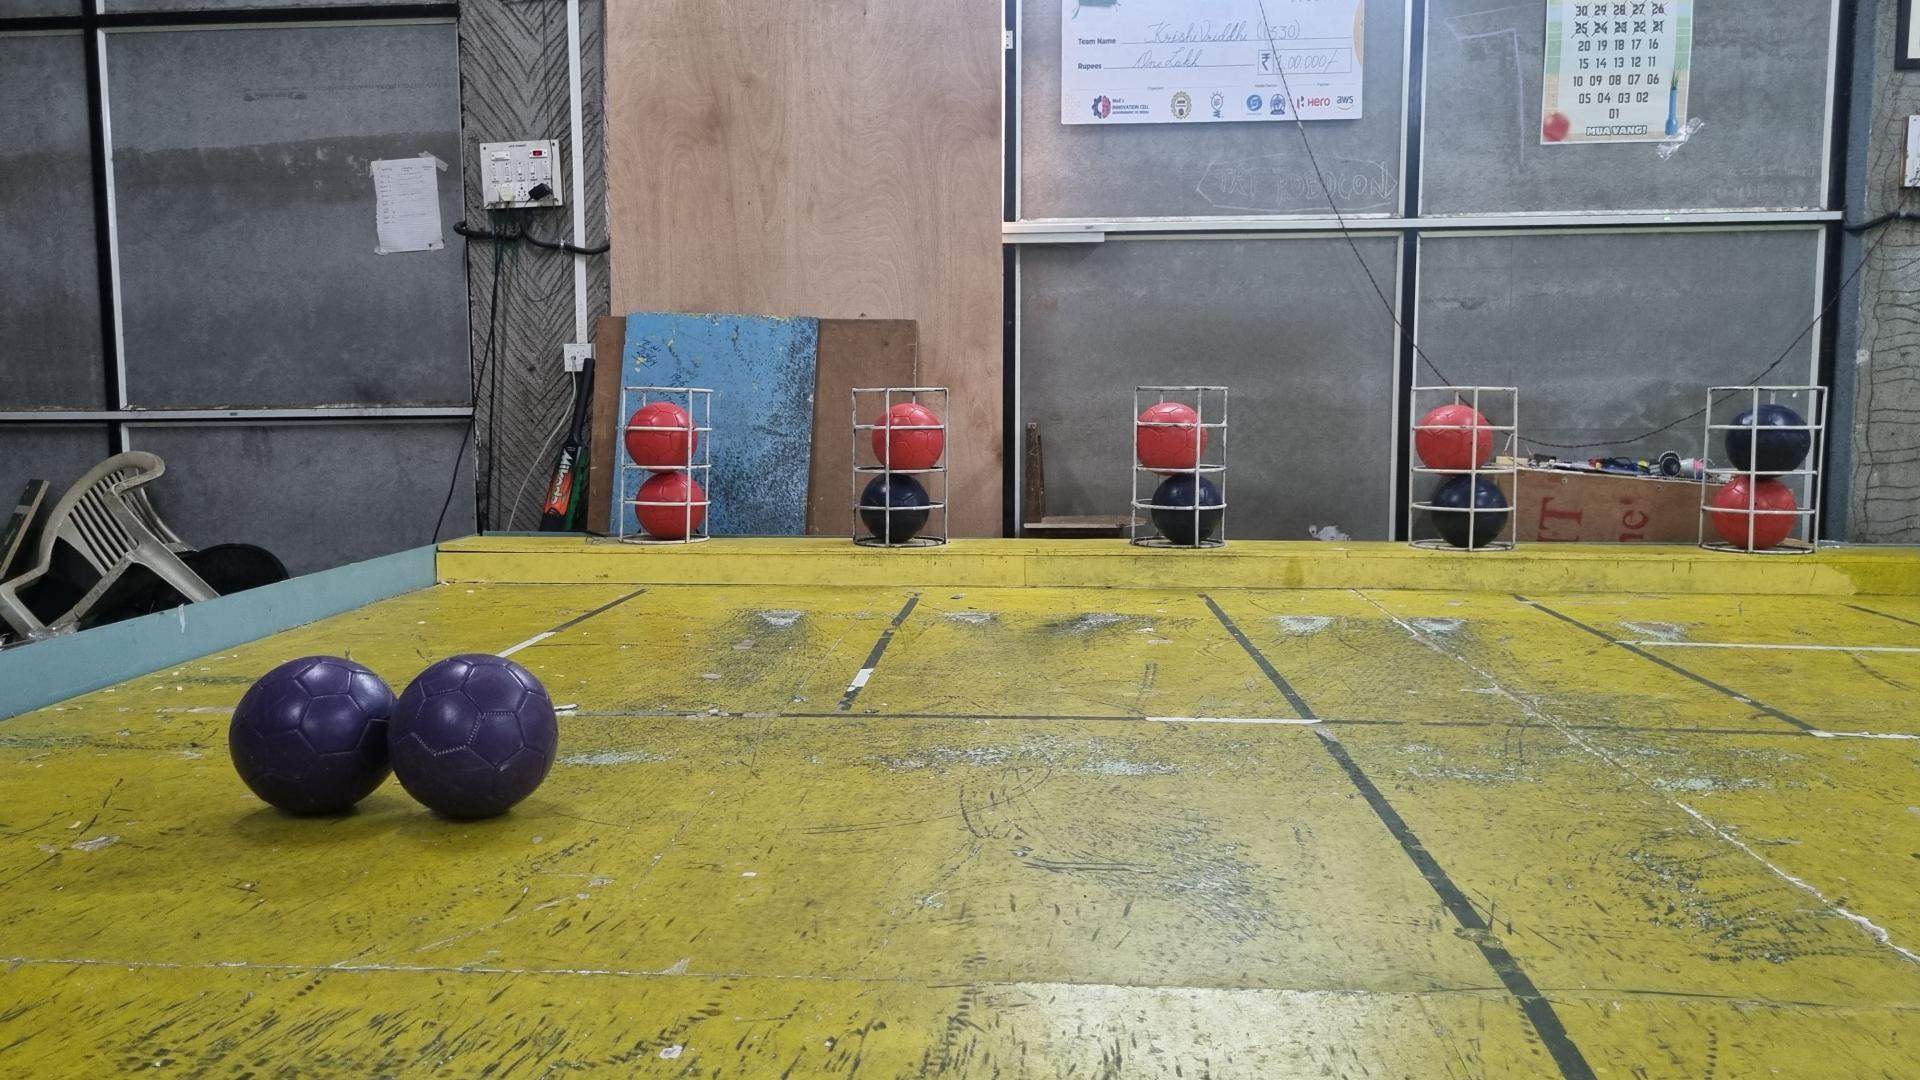dhoka: (1725, 405, 1812, 472), (1428, 476, 1507, 547), (1151, 472, 1222, 543), (858, 472, 930, 543)
laale: (1710, 475, 1797, 550), (1414, 405, 1493, 472), (1137, 401, 1208, 472), (870, 405, 945, 472), (634, 472, 705, 539), (626, 401, 698, 468)
